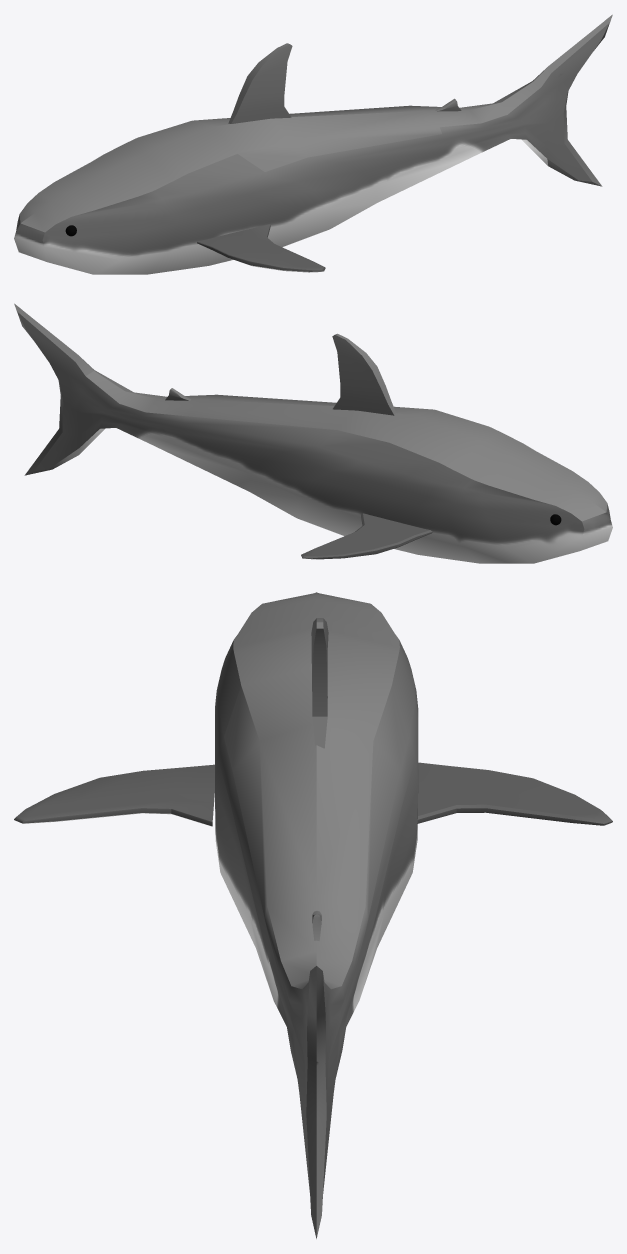
Rendered from shark.glb.
3 renders of one model, top to bottom at view 1: azimuth 30°, elevation 25°; view 2: azimuth 150°, elevation 25°; view 3: azimuth 270°, elevation 25°, orthographic. The views are drawn at different scales.
Parts seen in each view (by area): view 1: Object_3; view 2: Object_3; view 3: Object_3.
Part boxes in pixels (x1,y1,x2,y2): Object_3: [14, 14, 612, 274]; Object_3: [14, 303, 612, 563]; Object_3: [14, 592, 612, 1238].
Bounding box in the file's own units: 5.55 × 1.93 × 2.89.
2 materials, 2 textured.
